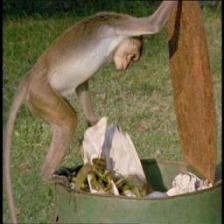monkey: (101, 12, 155, 85)
